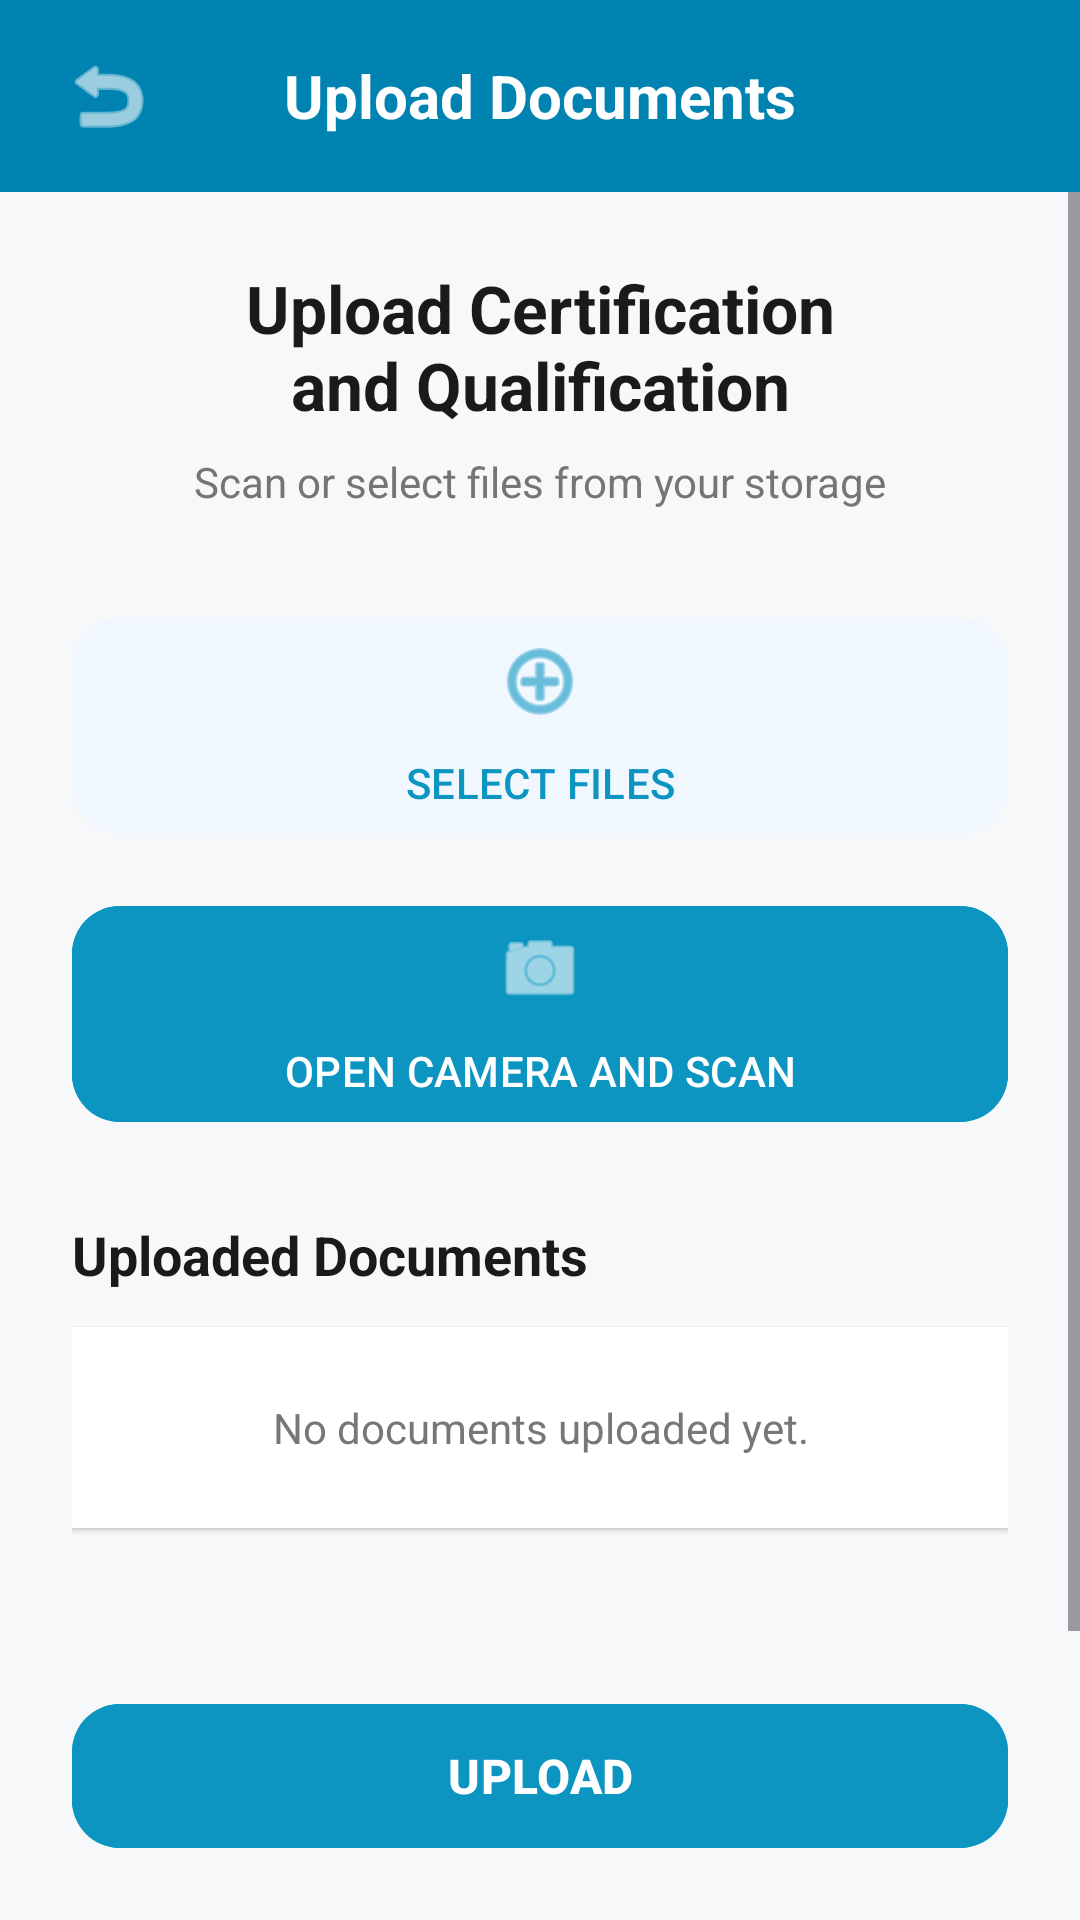

Screen size 1080px x 1920px. Icon name, then its box in pixels as (x1,y1,x2,y2):
Back: (75,65,144,128)
